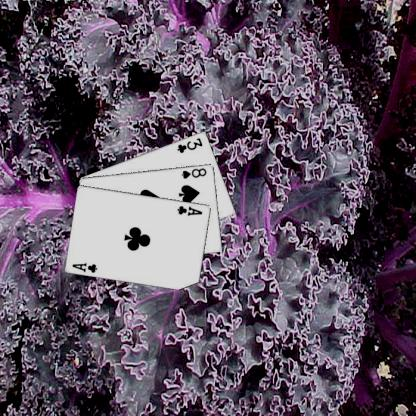3C: (174, 134, 204, 154)
8S: (179, 166, 208, 179)
AC: (175, 203, 203, 217), (70, 260, 99, 273)
